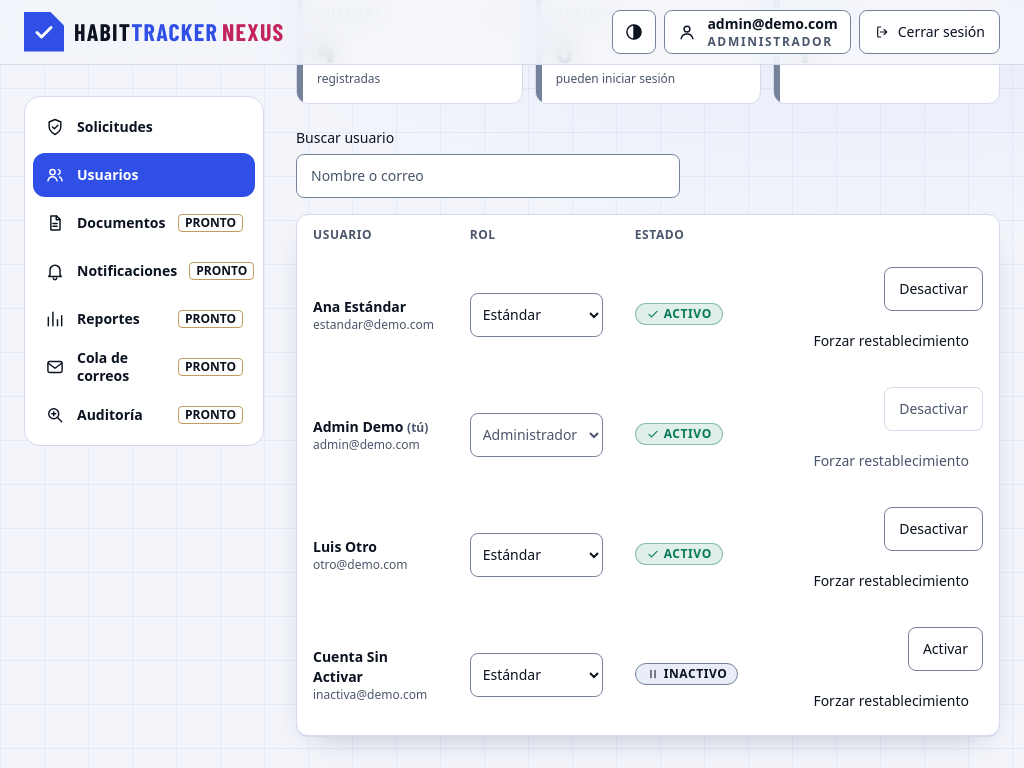
Scenario: administración de usuarios › cambia el rol de otro usuario
The width and height of the screenshot is (1024, 768).
(page scrolled)
Select "Administrador" in the dropdown in the row of "Luis Otro" at (536, 555), box [470,533,603,577]
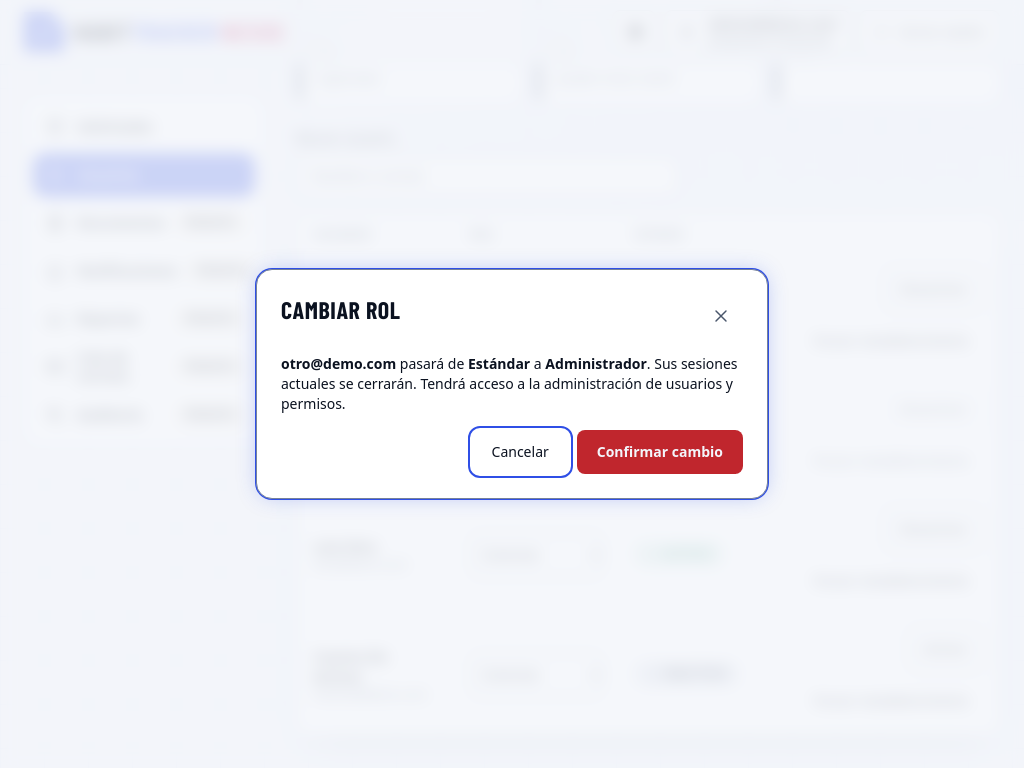
Check: the dialog "Cambiar rol" shows "Tendrá acceso a la administración", box [281,374,733,413]
Click the button "Confirmar cambio" at (660, 452), box [577,430,743,474]
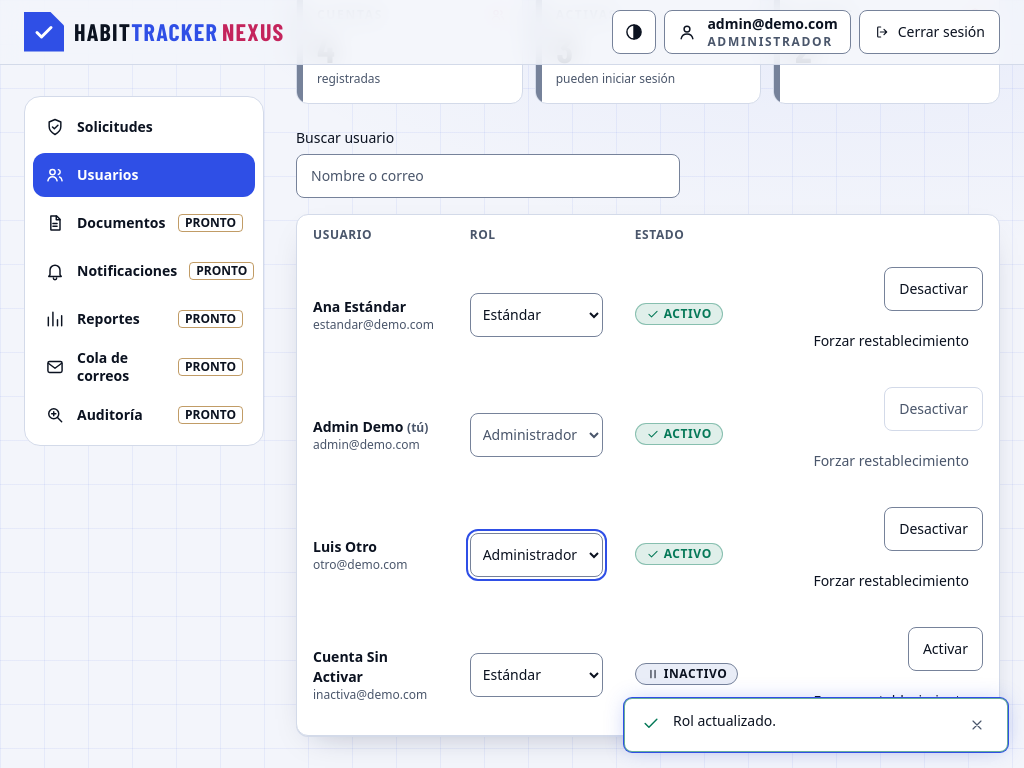
Check: the text "Rol actualizado." is shown, box [673,711,776,730]
